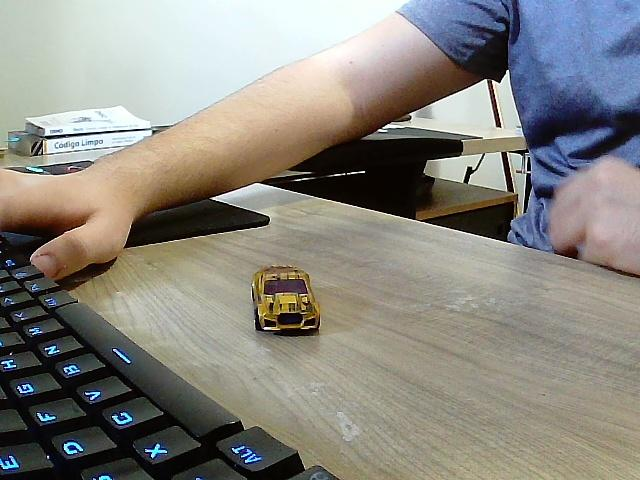Carro: (252, 266, 321, 338)
